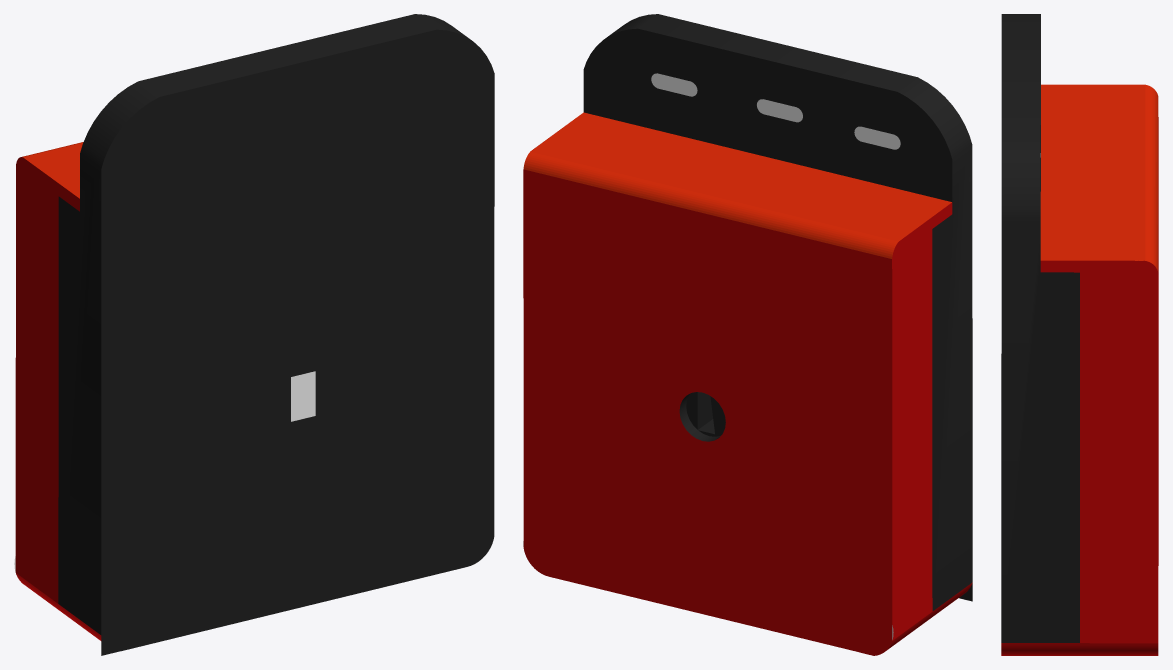
File: Encoder.fbx
3 views of the same model, side by side, from view 1: azimuth 30°, elevation 25°; view 2: azimuth 150°, elevation 25°; view 3: azimuth 270°, elevation 25° (orthographic). The views are drawn at different scales.
Parts seen in each view (by area): view 1: Vex_Encoder1; view 2: Vex_Encoder1; view 3: Vex_Encoder1.
Part boxes in pixels (x1,y1,x2,y2): Vex_Encoder1: [14, 14, 494, 655]; Vex_Encoder1: [523, 14, 972, 655]; Vex_Encoder1: [1001, 14, 1158, 655].
Size of the model in its own units: 2 by 2.63 by 0.7506.
